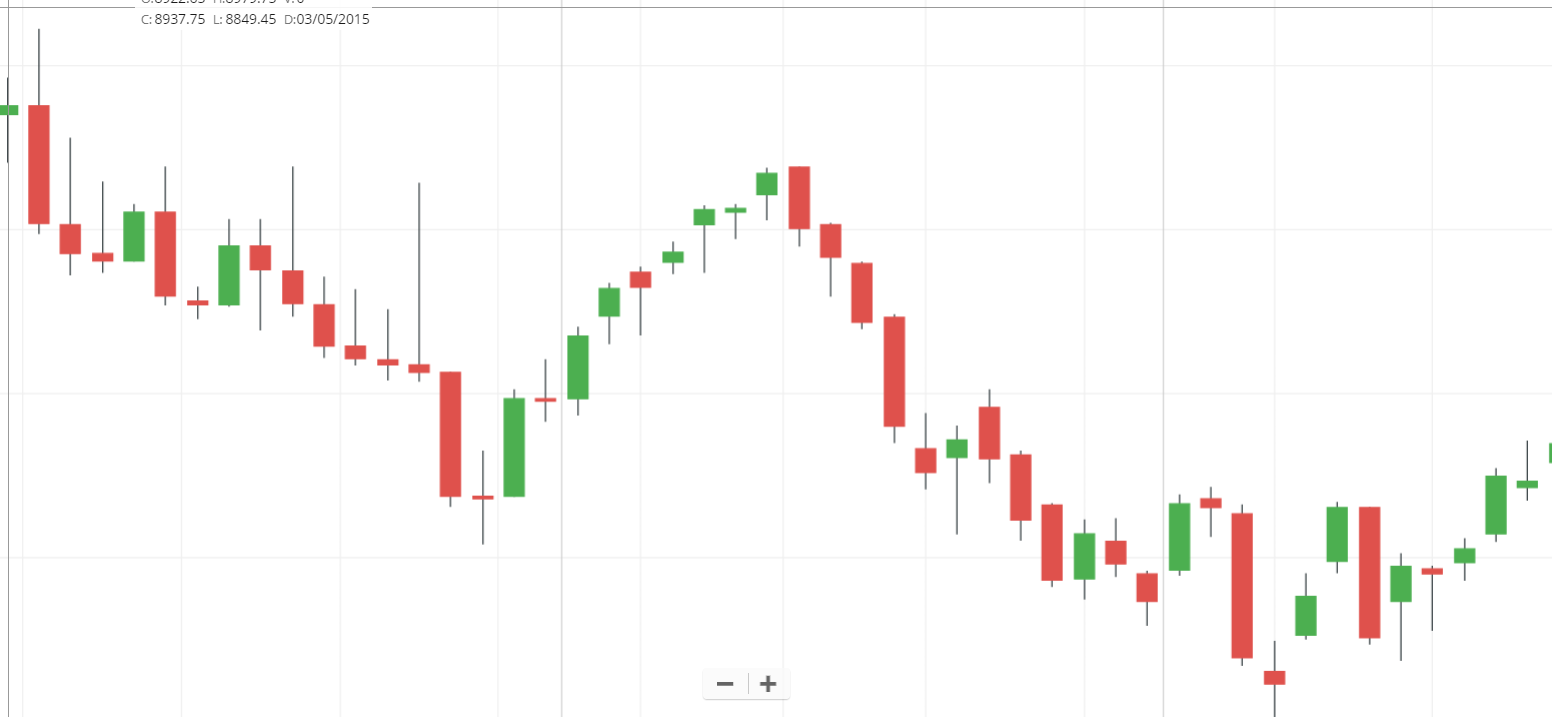doji: (399, 173, 437, 383), (83, 164, 121, 285), (939, 417, 971, 539), (524, 344, 564, 428), (369, 294, 404, 388), (1417, 557, 1451, 645), (1516, 430, 1542, 508)
